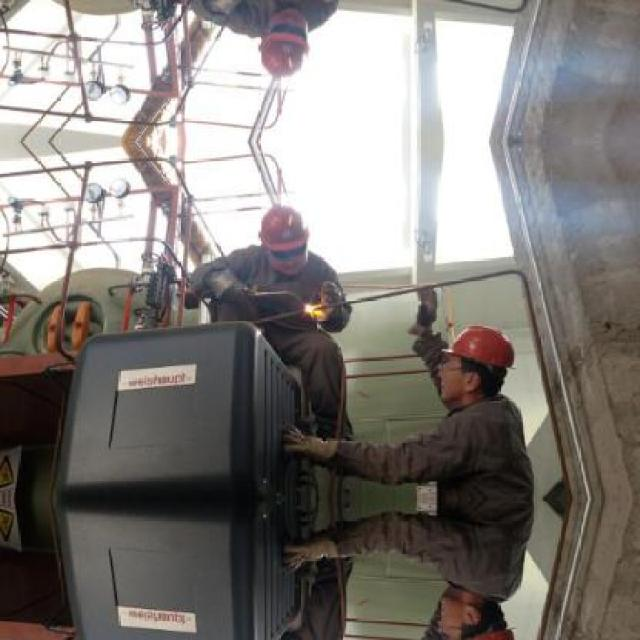helmet: (440, 320, 520, 400), (254, 199, 308, 266), (254, 14, 308, 81), (440, 594, 522, 638)
